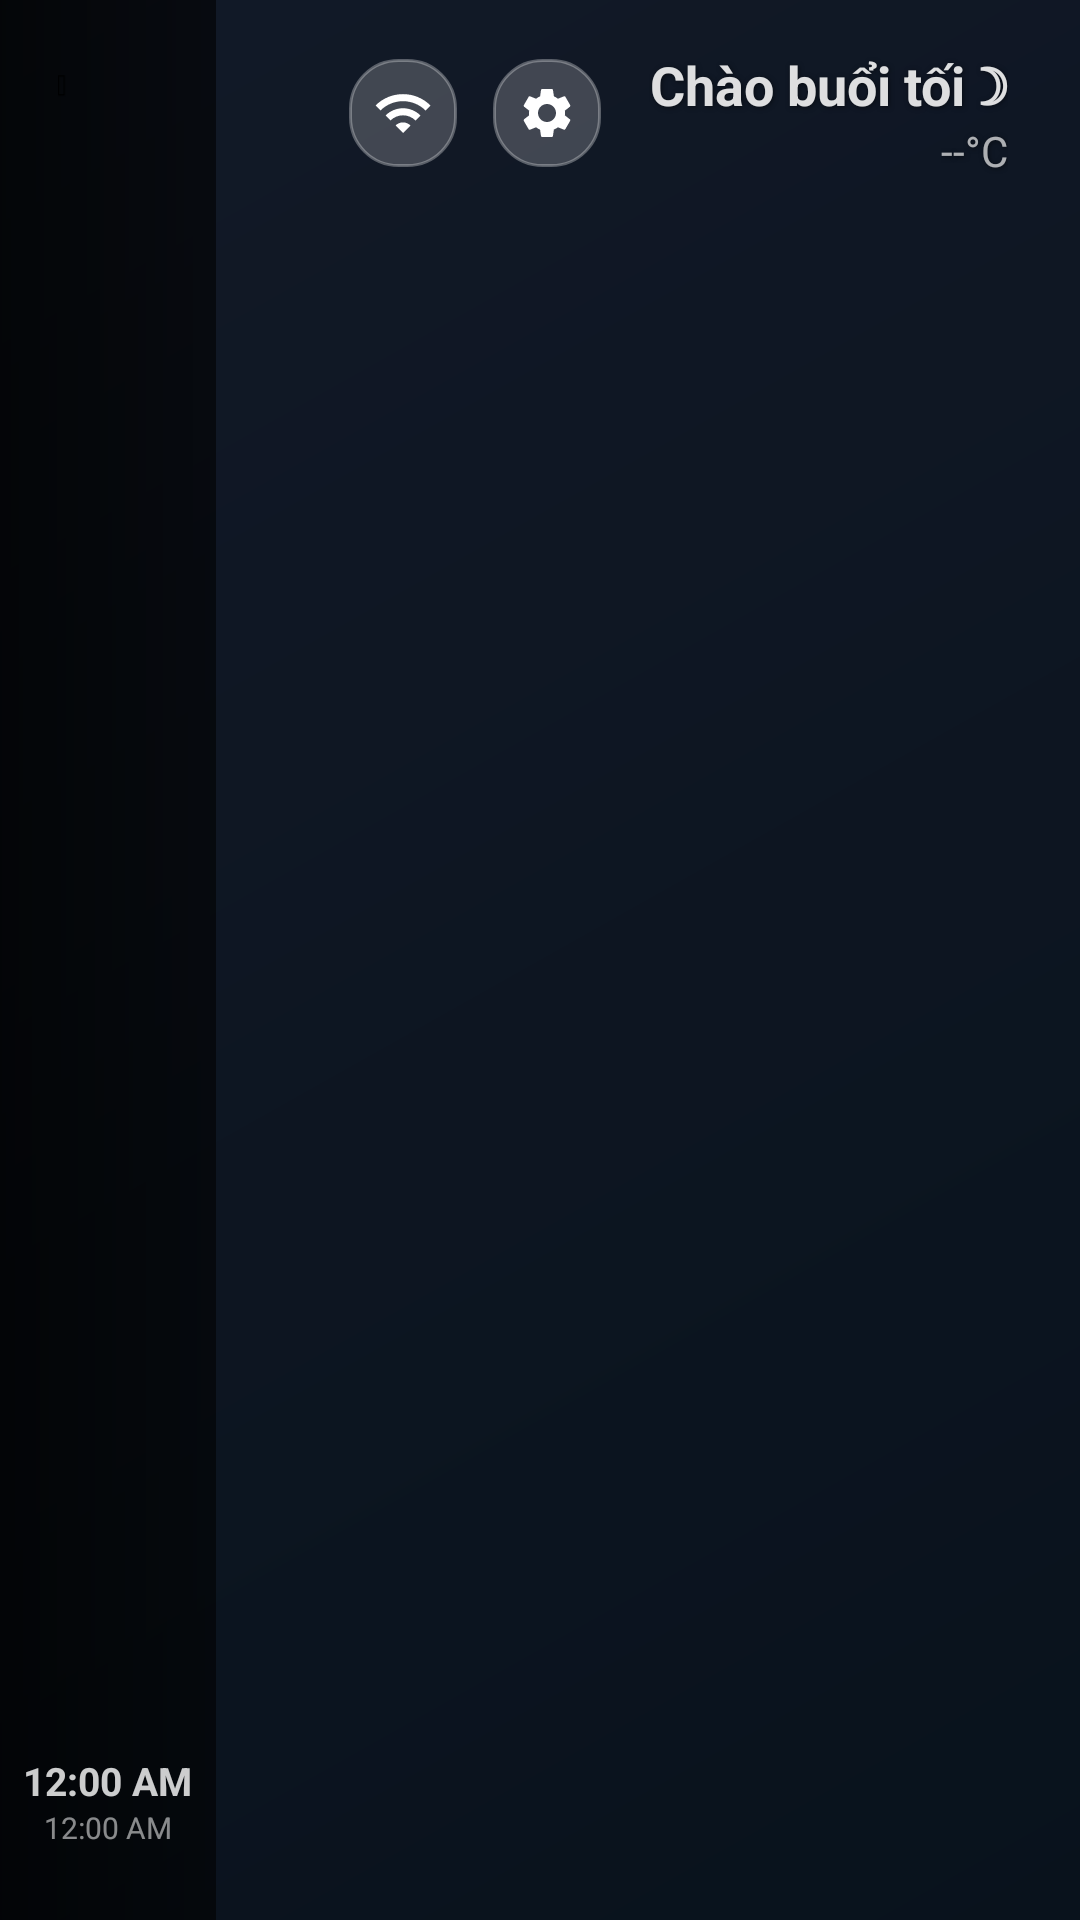

Point at icon controls on the screen. Image size 1080 × 1920, points as (x=x, y=y).
settings: (x=547, y=113)
wifi: (x=403, y=113)
